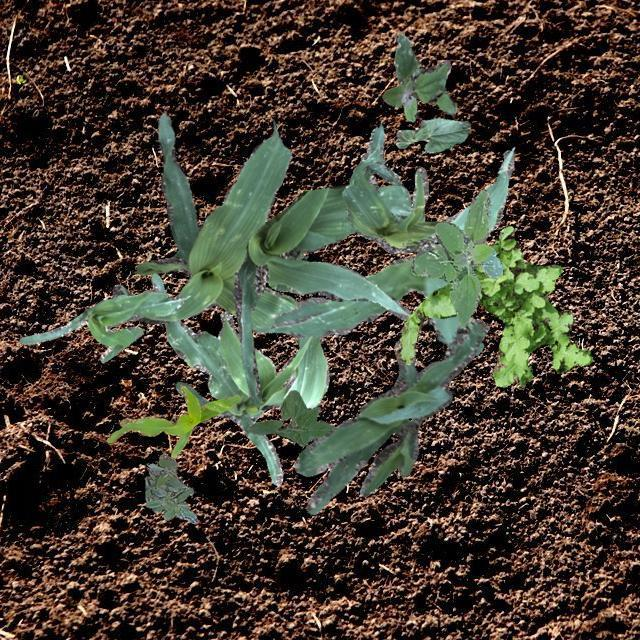crop: (111, 112, 296, 334), (232, 184, 410, 408), (294, 316, 488, 514), (150, 272, 328, 484), (266, 242, 482, 354), (342, 124, 514, 252), (18, 288, 185, 362), (106, 384, 240, 456), (246, 390, 334, 446), (394, 116, 468, 152)
weed: (394, 226, 592, 386), (408, 188, 502, 326), (382, 31, 456, 120), (144, 453, 196, 522)
